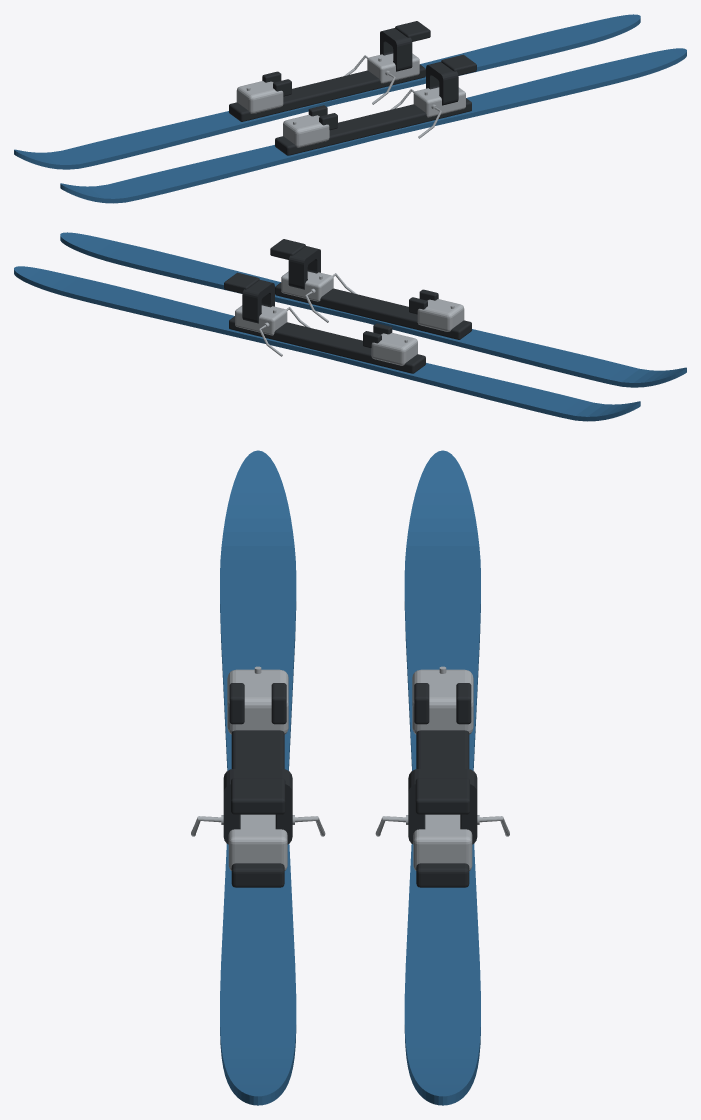
The model's file is full.glb.
3 renders of one model, top to bottom at view 1: azimuth 30°, elevation 25°; view 2: azimuth 150°, elevation 25°; view 3: azimuth 270°, elevation 25°, orthographic. The views are drawn at different scales.
Parts seen in each view (by area): view 1: Waisted downhill ski 0, Waisted downhill ski 1, Long mounting plate 1, Long mounting plate 0, Toe housing 1, Toe housing 0, Open heel retainer 1, Open heel retainer 0, Heel pedestal 1, Heel pedestal 0, Heel release pad 1, Heel release pad 0; view 2: Waisted downhill ski 1, Waisted downhill ski 0, Long mounting plate 0, Long mounting plate 1, Toe housing 0, Toe housing 1, Open heel retainer 0, Open heel retainer 1, Heel pedestal 0, Heel pedestal 1, Heel release pad 0, Heel release pad 1; view 3: Waisted downhill ski 0, Waisted downhill ski 1, Long mounting plate 0, Long mounting plate 1, Heel pedestal 0, Heel pedestal 1, Toe housing 0, Toe housing 1, Heel release pad 0, Heel release pad 1, Open heel retainer 0, Open heel retainer 1.
Boxes of the visible parts, <box> form: Waisted downhill ski 0: <box>60,48,686,203</box>; Waisted downhill ski 1: <box>14,14,640,169</box>; Long mounting plate 1: <box>229,64,425,121</box>; Long mounting plate 0: <box>275,98,471,155</box>; Toe housing 1: <box>236,81,283,113</box>; Toe housing 0: <box>283,115,329,147</box>; Open heel retainer 1: <box>380,28,412,71</box>; Open heel retainer 0: <box>426,62,458,105</box>; Heel pedestal 1: <box>367,53,419,83</box>; Heel pedestal 0: <box>413,87,465,117</box>; Heel release pad 1: <box>395,21,430,41</box>; Heel release pad 0: <box>441,54,476,75</box>; Waisted downhill ski 1: <box>14,266,640,421</box>; Waisted downhill ski 0: <box>60,232,686,387</box>; Long mounting plate 0: <box>275,282,471,339</box>; Long mounting plate 1: <box>229,316,425,373</box>; Toe housing 0: <box>417,299,464,331</box>; Toe housing 1: <box>371,333,417,365</box>; Open heel retainer 0: <box>288,246,320,289</box>; Open heel retainer 1: <box>242,280,274,323</box>; Heel pedestal 0: <box>281,271,333,301</box>; Heel pedestal 1: <box>235,305,287,335</box>; Heel release pad 0: <box>270,239,305,259</box>; Heel release pad 1: <box>224,272,259,293</box>; Waisted downhill ski 0: <box>220,450,296,1105</box>; Waisted downhill ski 1: <box>404,450,480,1105</box>; Long mounting plate 0: <box>231,730,284,887</box>; Long mounting plate 1: <box>416,730,469,887</box>; Heel pedestal 0: <box>228,814,287,870</box>; Heel pedestal 1: <box>413,814,472,870</box>; Toe housing 0: <box>227,669,288,734</box>; Toe housing 1: <box>412,669,473,734</box>; Heel release pad 0: <box>231,778,285,814</box>; Heel release pad 1: <box>415,778,469,814</box>; Open heel retainer 0: <box>223,769,292,844</box>; Open heel retainer 1: <box>408,769,477,844</box>.
Size of the model in its own units: 1.72 by 0.1352 by 0.38.
